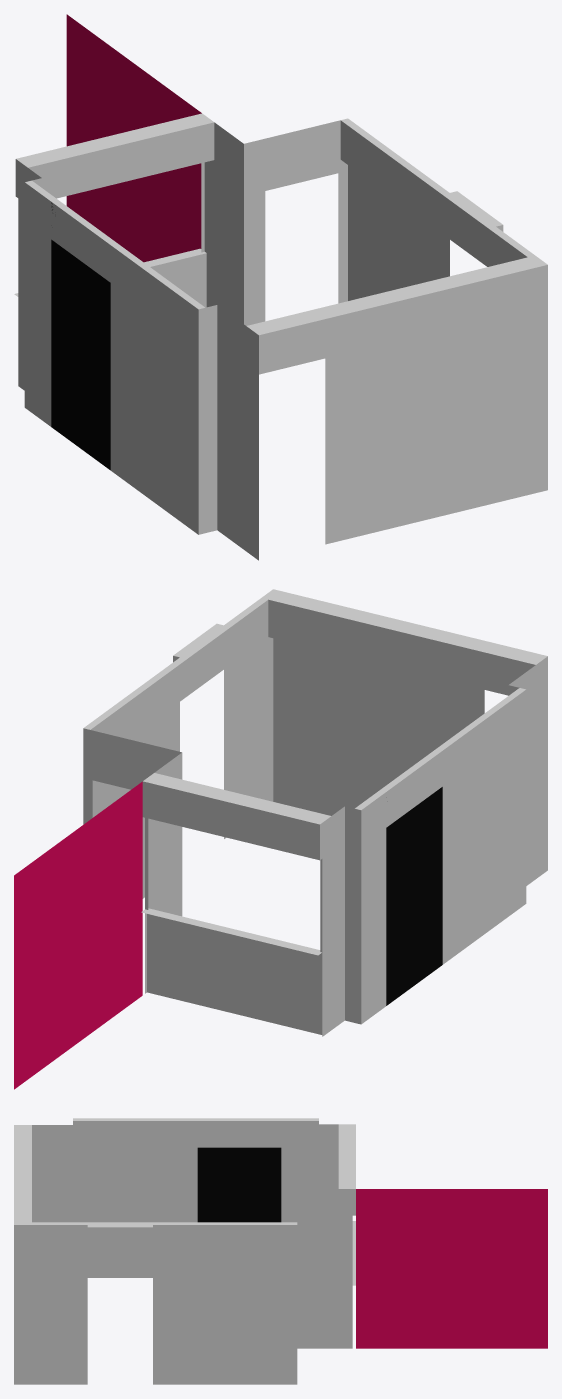
The model's file is SM_LR_Wall_1.fbx.
3 renders of one model, top to bottom at view 1: azimuth 30°, elevation 25°; view 2: azimuth 150°, elevation 25°; view 3: azimuth 270°, elevation 25°, orthographic. The views are drawn at different scales.
Parts seen in each view (by area): view 1: SM_LR_Wall_1; view 2: SM_LR_Wall_1; view 3: SM_LR_Wall_1.
Boxes of the visible parts, left/top/right/bottom form: SM_LR_Wall_1: left=14, top=14, right=547, bottom=560; SM_LR_Wall_1: left=14, top=589, right=547, bottom=1089; SM_LR_Wall_1: left=14, top=1118, right=547, bottom=1384.
Size of the model in its own units: 402 by 275 by 834.
